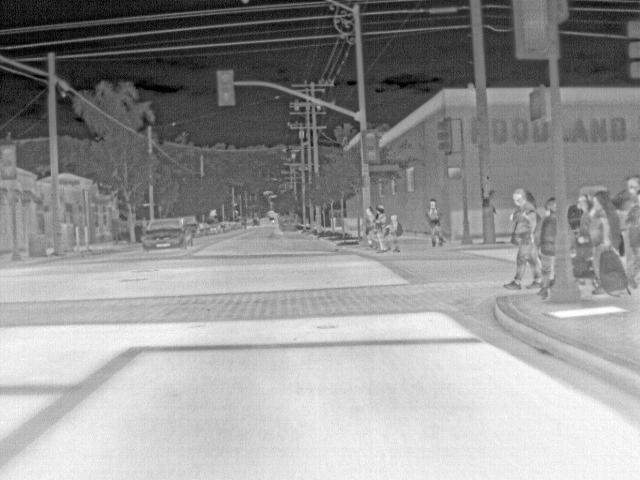car: (140, 217, 194, 252), (185, 215, 199, 236), (280, 218, 298, 232), (198, 222, 209, 236), (221, 221, 231, 231), (208, 224, 217, 235), (228, 220, 238, 228), (253, 218, 260, 228), (235, 219, 242, 229), (216, 223, 223, 233), (280, 215, 287, 224), (268, 215, 274, 224)
person: (503, 186, 540, 290), (619, 172, 639, 292), (589, 191, 606, 296), (540, 197, 557, 300), (575, 193, 592, 286), (426, 197, 444, 246), (373, 204, 388, 254), (387, 214, 403, 254), (363, 206, 375, 250)
